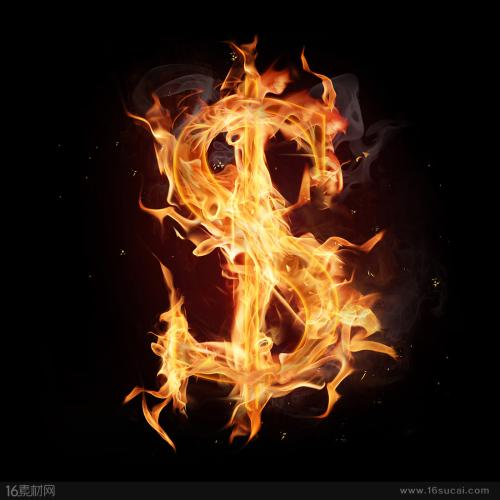fire: (338, 295, 395, 363), (141, 102, 177, 199), (232, 56, 289, 94)
